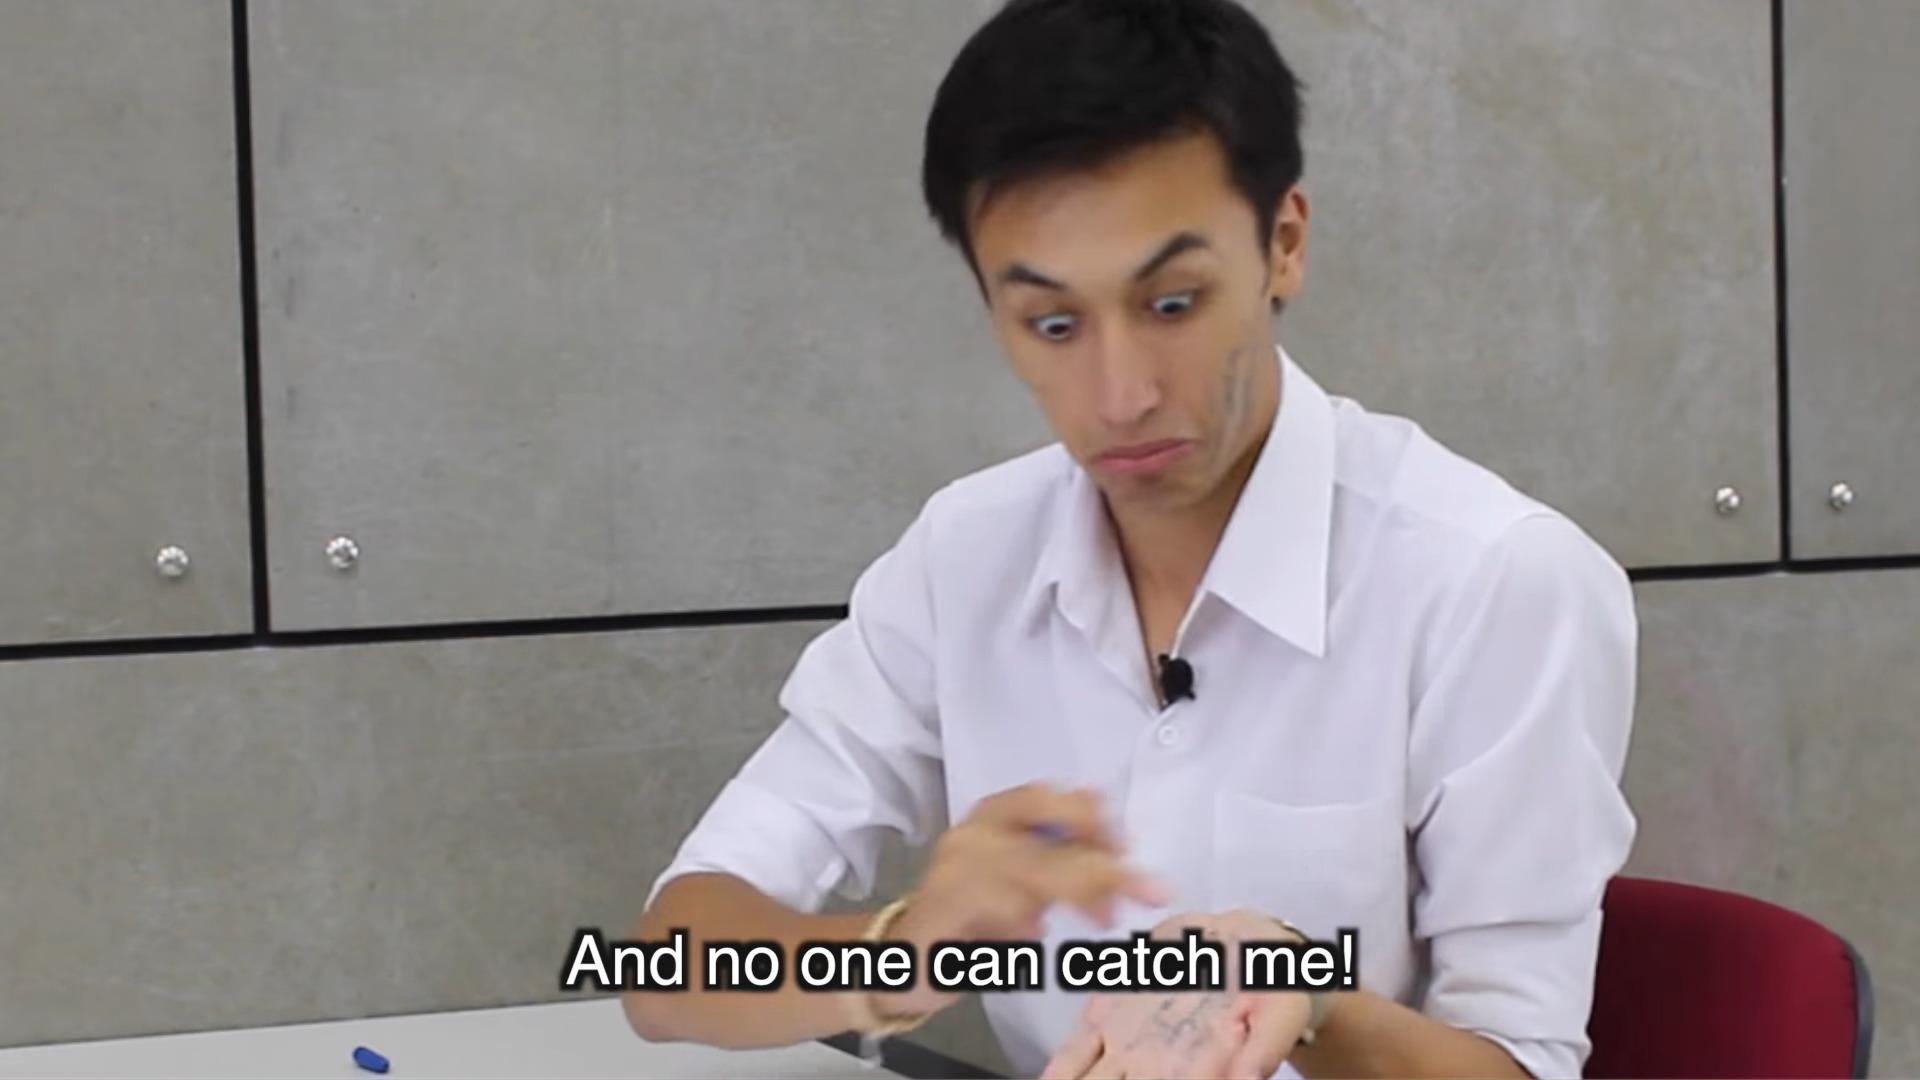cheating: (550, 8, 1671, 913)
